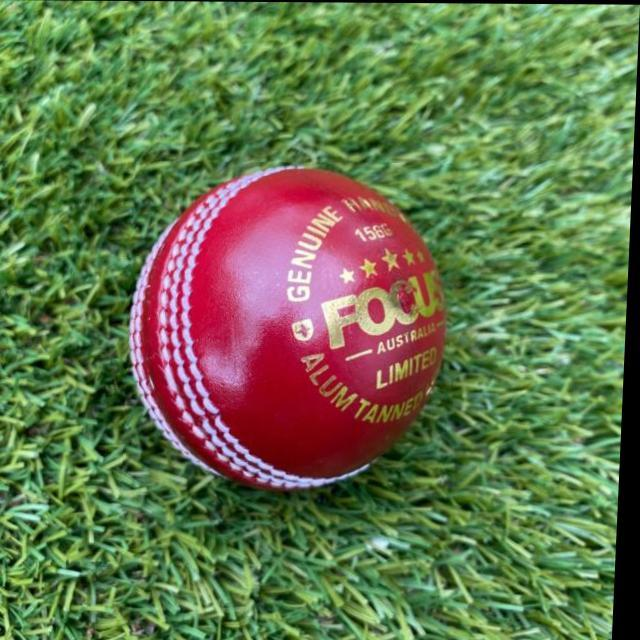cricket ball: (132, 162, 452, 494)
